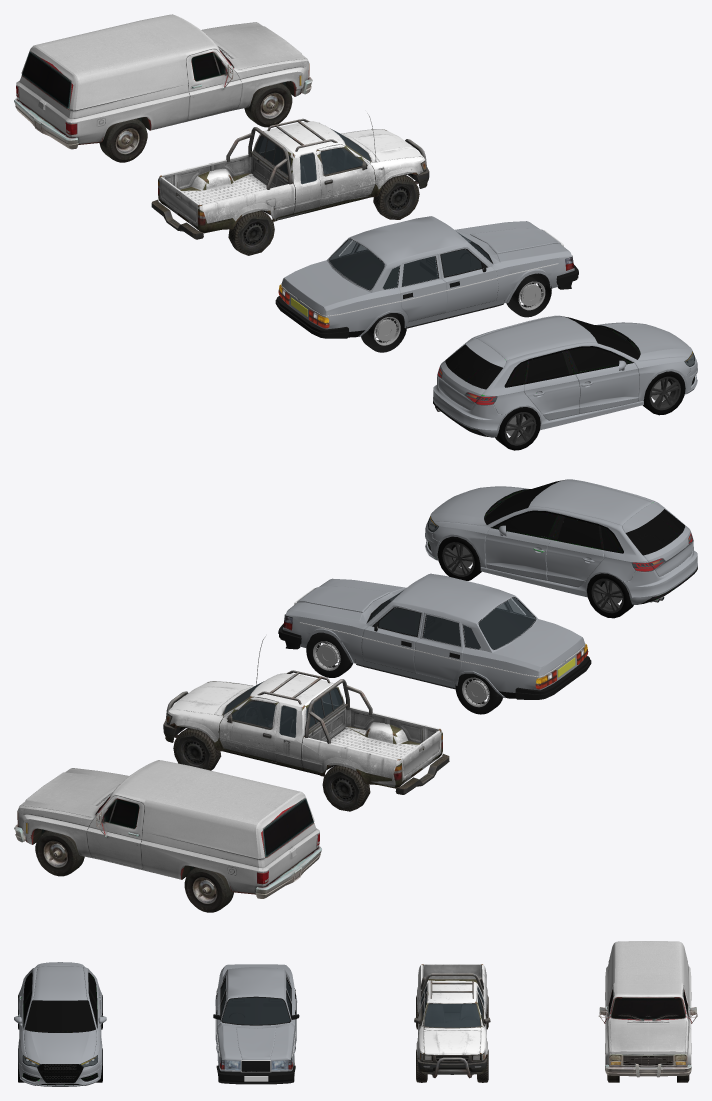
The model's file is voitures_reelles.glb.
3 renders of one model, top to bottom at view 1: azimuth 30°, elevation 25°; view 2: azimuth 150°, elevation 25°; view 3: azimuth 270°, elevation 25°, orthographic. The views are drawn at different scales.
Visible parts, largest first — view 1: vr_fourgon_caisse, vr_berline_caisse, vr_citadine_caisse, vr_pickup_caisse, vr_fourgon_roue_ARD, vr_pickup_roue_AVD, vr_pickup_roue_ARD, vr_fourgon_roue_AVD, vr_citadine_roue_ARD, vr_citadine_roue_AVD, vr_berline_roue_AVD, vr_berline_roue_ARD; view 2: vr_fourgon_caisse, vr_berline_caisse, vr_citadine_caisse, vr_pickup_caisse, vr_fourgon_roue_ARG, vr_pickup_roue_ARG, vr_fourgon_roue_AVG, vr_citadine_roue_ARG, vr_berline_roue_AVG, vr_citadine_roue_AVG, vr_pickup_roue_AVG, vr_berline_roue_ARG; view 3: vr_fourgon_caisse, vr_citadine_caisse, vr_berline_caisse, vr_pickup_caisse.
Part boxes in pixels (x1=…): vr_fourgon_caisse: x1=14, y1=14, x2=312, y2=149; vr_berline_caisse: x1=275, y1=216, x2=578, y2=338; vr_citadine_caisse: x1=433, y1=315, x2=697, y2=437; vr_pickup_caisse: x1=151, y1=113, x2=429, y2=239; vr_fourgon_roue_ARD: x1=99, y1=118, x2=147, y2=162; vr_pickup_roue_AVD: x1=373, y1=174, x2=419, y2=219; vr_pickup_roue_ARD: x1=228, y1=210, x2=274, y2=255; vr_fourgon_roue_AVD: x1=244, y1=83, x2=292, y2=127; vr_citadine_roue_ARD: x1=495, y1=407, x2=540, y2=450; vr_citadine_roue_AVD: x1=643, y1=371, x2=685, y2=415; vr_berline_roue_AVD: x1=506, y1=273, x2=551, y2=317; vr_berline_roue_ARD: x1=361, y1=313, x2=406, y2=352; vr_fourgon_caisse: x1=14, y1=760, x2=321, y2=898; vr_berline_caisse: x1=278, y1=573, x2=591, y2=699; vr_citadine_caisse: x1=425, y1=479, x2=697, y2=604; vr_pickup_caisse: x1=163, y1=636, x2=449, y2=794; vr_fourgon_roue_ARG: x1=184, y1=867, x2=233, y2=912; vr_pickup_roue_ARG: x1=322, y1=765, x2=370, y2=811; vr_fourgon_roue_AVG: x1=35, y1=830, x2=84, y2=876; vr_citadine_roue_ARG: x1=587, y1=573, x2=633, y2=618; vr_berline_roue_AVG: x1=306, y1=632, x2=352, y2=677; vr_citadine_roue_AVG: x1=437, y1=536, x2=481, y2=580; vr_pickup_roue_AVG: x1=173, y1=728, x2=221, y2=770; vr_berline_roue_ARG: x1=455, y1=673, x2=502, y2=714; vr_fourgon_caisse: x1=598, y1=941, x2=697, y2=1077; vr_citadine_caisse: x1=14, y1=962, x2=106, y2=1086; vr_berline_caisse: x1=213, y1=964, x2=299, y2=1084; vr_pickup_caisse: x1=414, y1=964, x2=490, y2=1078.
Bounding box in the file's own units: 4.69 × 1.91 × 13.96.
Materials: 20 (13 with a texture image).
